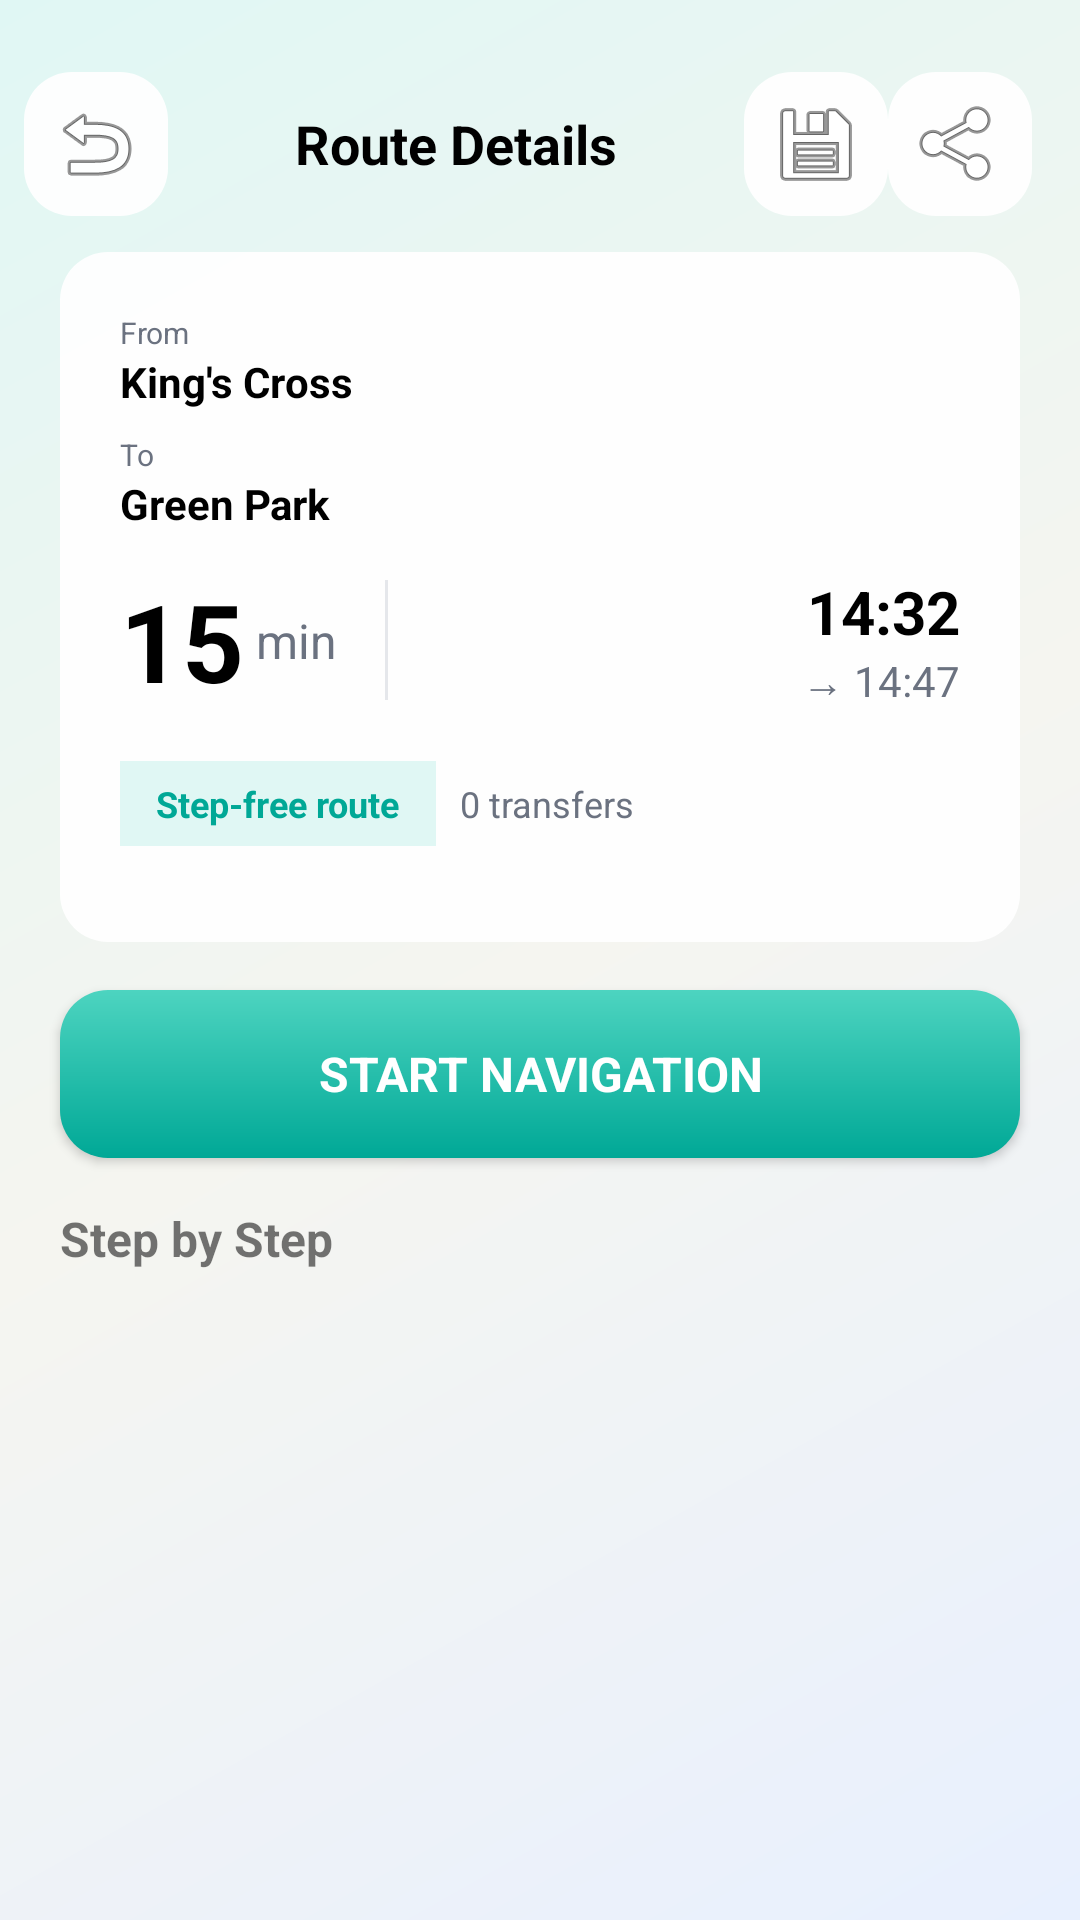

Icon bounding boxes for this 1080*1920 phone screenshot, format (x1, y1, x2, y2):
Back: (24, 72, 168, 216)
Save: (744, 72, 888, 216)
Share: (888, 72, 1032, 216)
